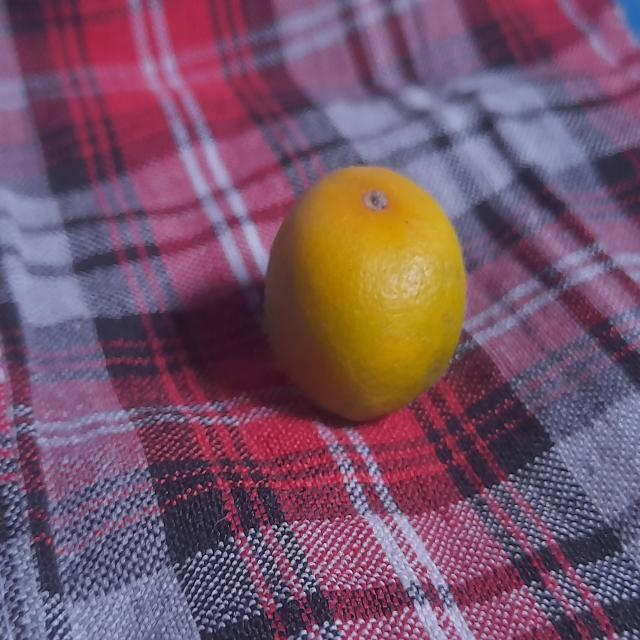greening: (268, 163, 469, 417)
